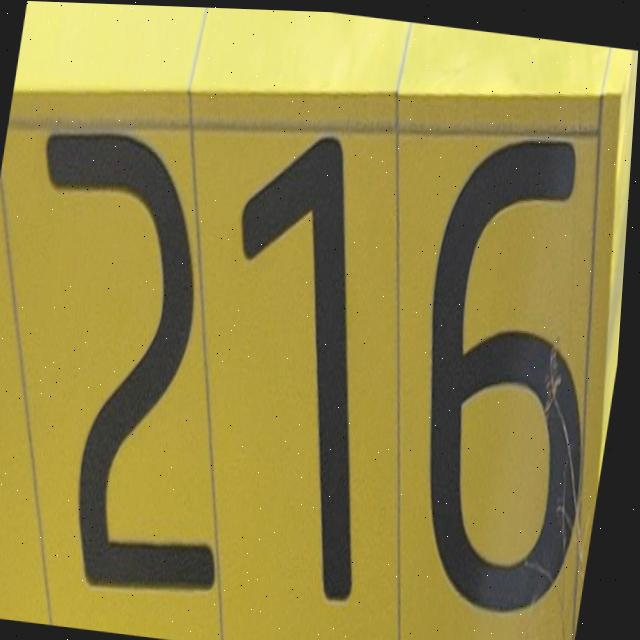character: (0, 114, 286, 610), (378, 113, 634, 632), (181, 116, 425, 615)
